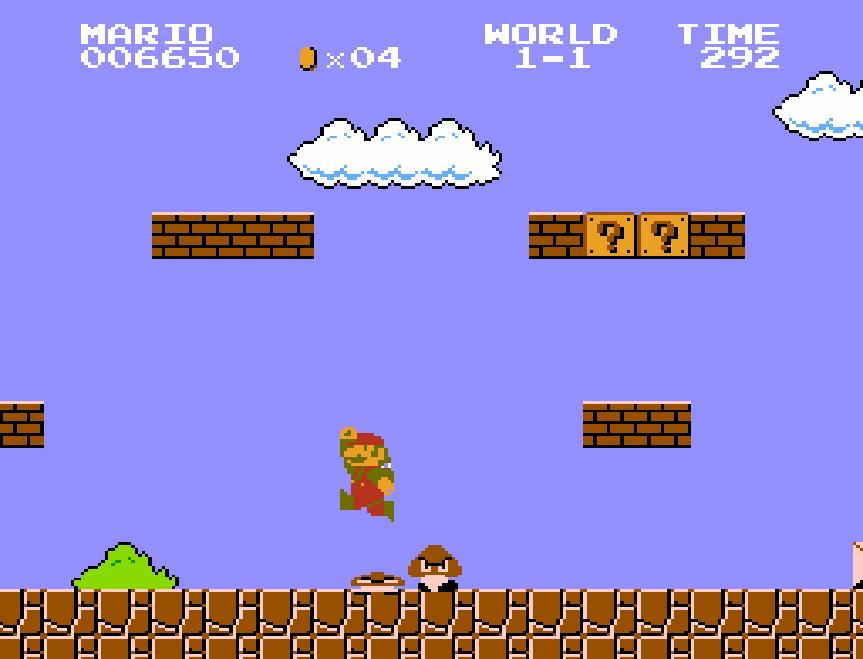big_mario: (338, 425, 396, 524)
